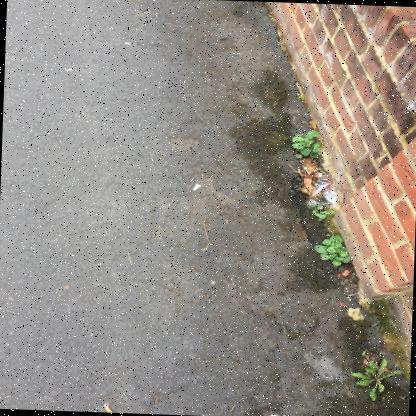Cigarette: (104, 407, 113, 413)
Plastic film: (308, 173, 340, 208)
Unlabeled litter: (192, 184, 201, 191)
